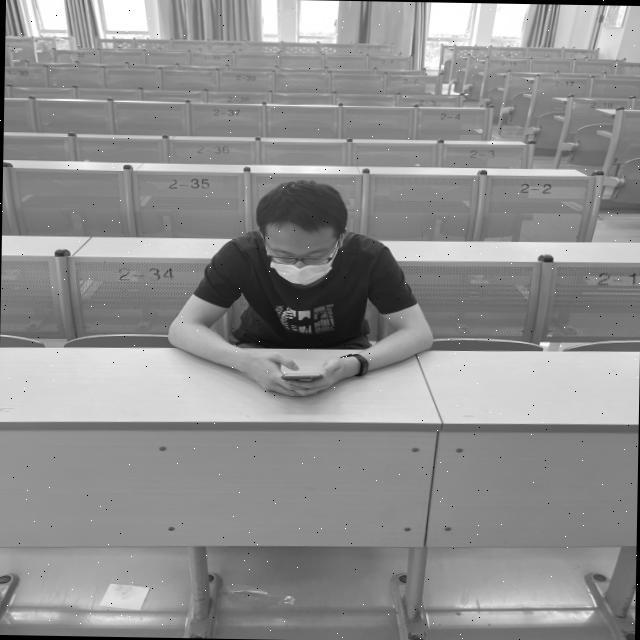phone: (164, 177, 435, 398)
